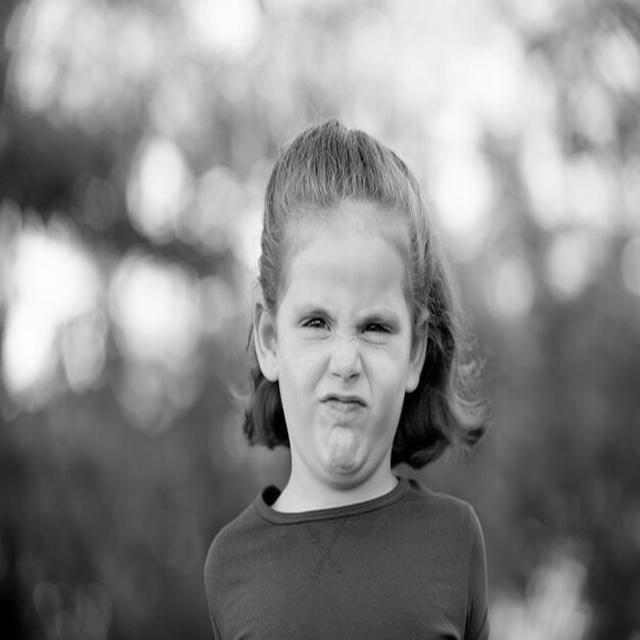Disgust: (277, 240, 411, 477)
